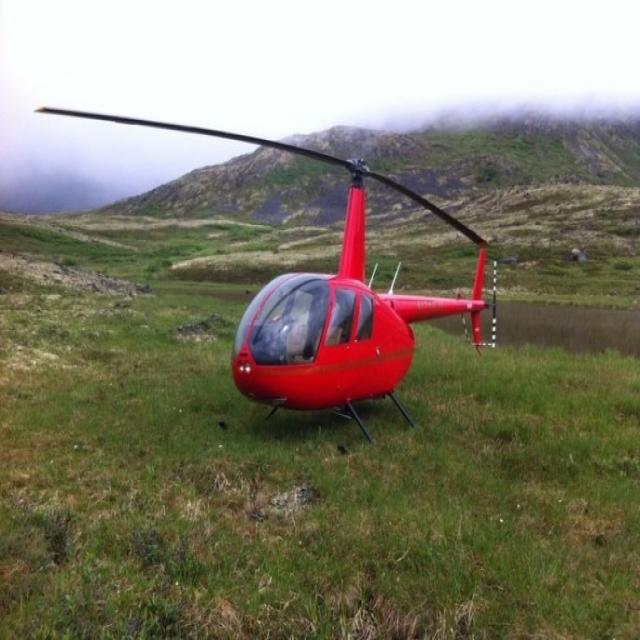CIV_HELO: (228, 156, 491, 459)
